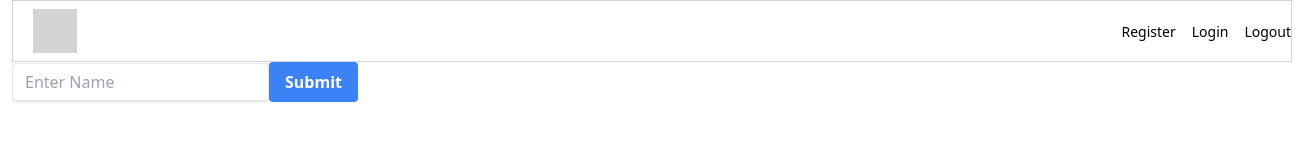
Scenario: Home Page test › Check The Input field
Type "Cindrella" into the field with placeholder "Enter Name" at (141, 82), box x1=12 y1=63 x2=269 y2=101
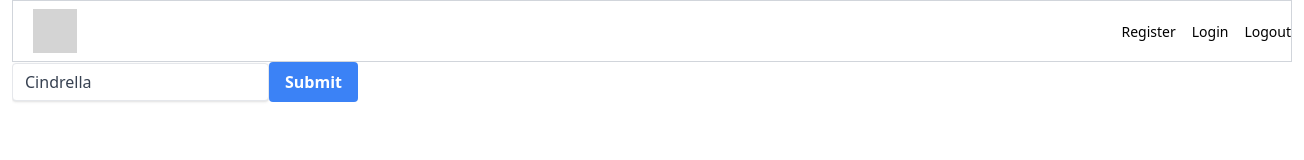
Click the button "Submit" at (314, 82), box x1=269 y1=62 x2=358 y2=102
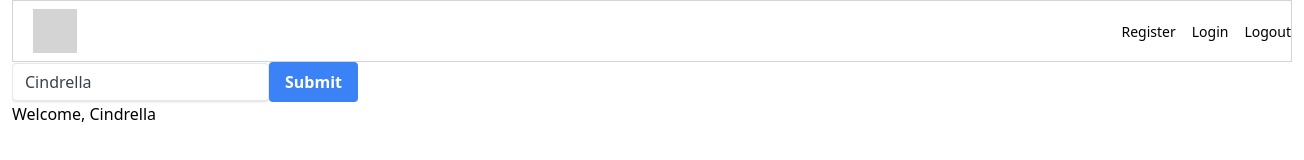
Expected: the heading "Welcome, Cindrella" is shown, x1=12 y1=103 x2=156 y2=125
